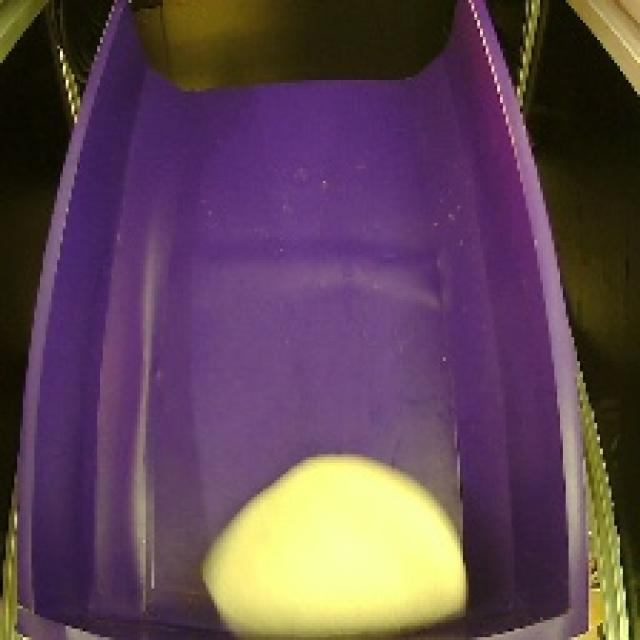white_radish: (193, 439, 483, 640)
